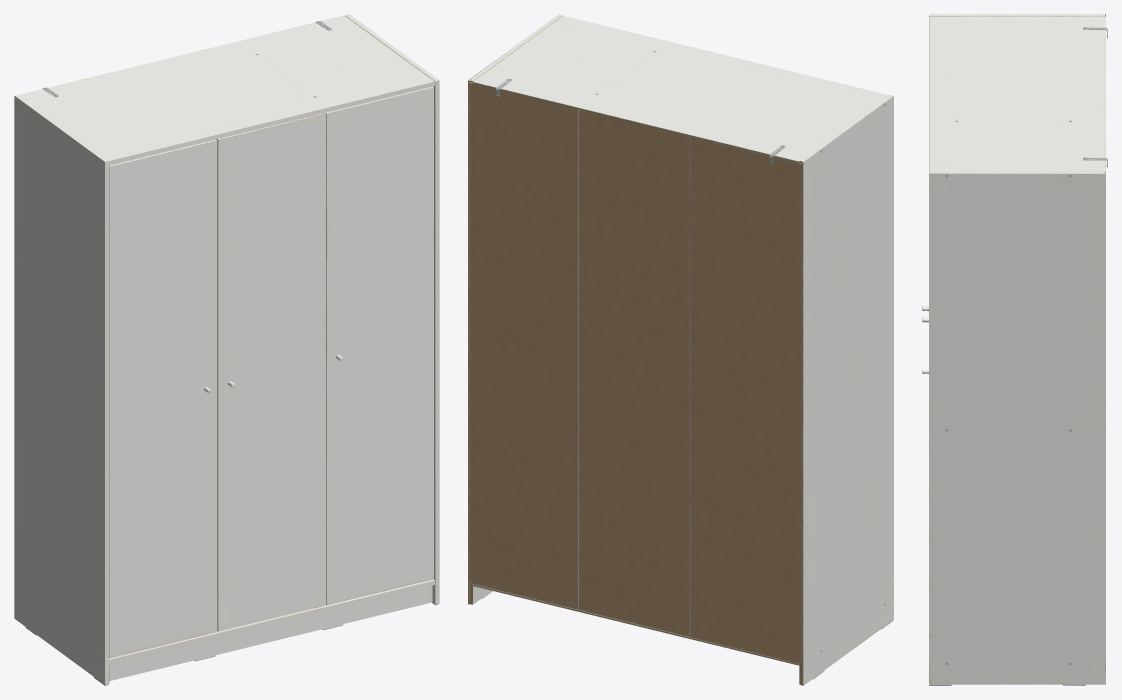
3 views of the same model, side by side, from view 1: azimuth 30°, elevation 25°; view 2: azimuth 150°, elevation 25°; view 3: azimuth 270°, elevation 25° (orthographic). The views are drawn at different scales.
Visible parts, largest first — view 1: 00441758-KLEPPSTAD001; view 2: 00441758-KLEPPSTAD001; view 3: 00441758-KLEPPSTAD001.
Boxes of the visible parts, x1,y1,x2,y2 form: 00441758-KLEPPSTAD001: (14,14,439,685); 00441758-KLEPPSTAD001: (468,14,893,685); 00441758-KLEPPSTAD001: (922,14,1107,685).
Bounding box in the file's own units: 1.17 × 1.76 × 0.5751.
1 material, 1 textured.
